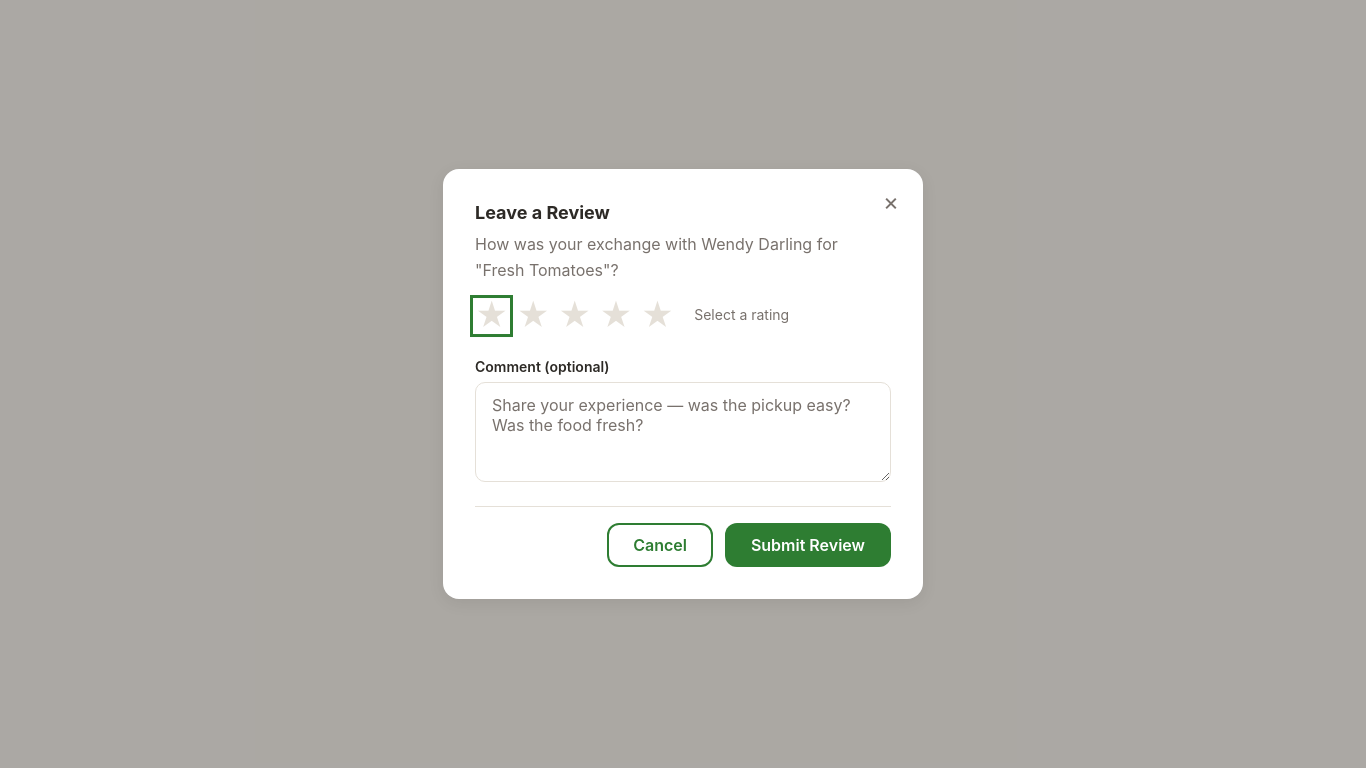
it: ReviewModal › must update the rating label when a star is clicked
Click the button named "3 stars". click: [575, 316]
box: top-left (558, 300), bottom-right (591, 332)
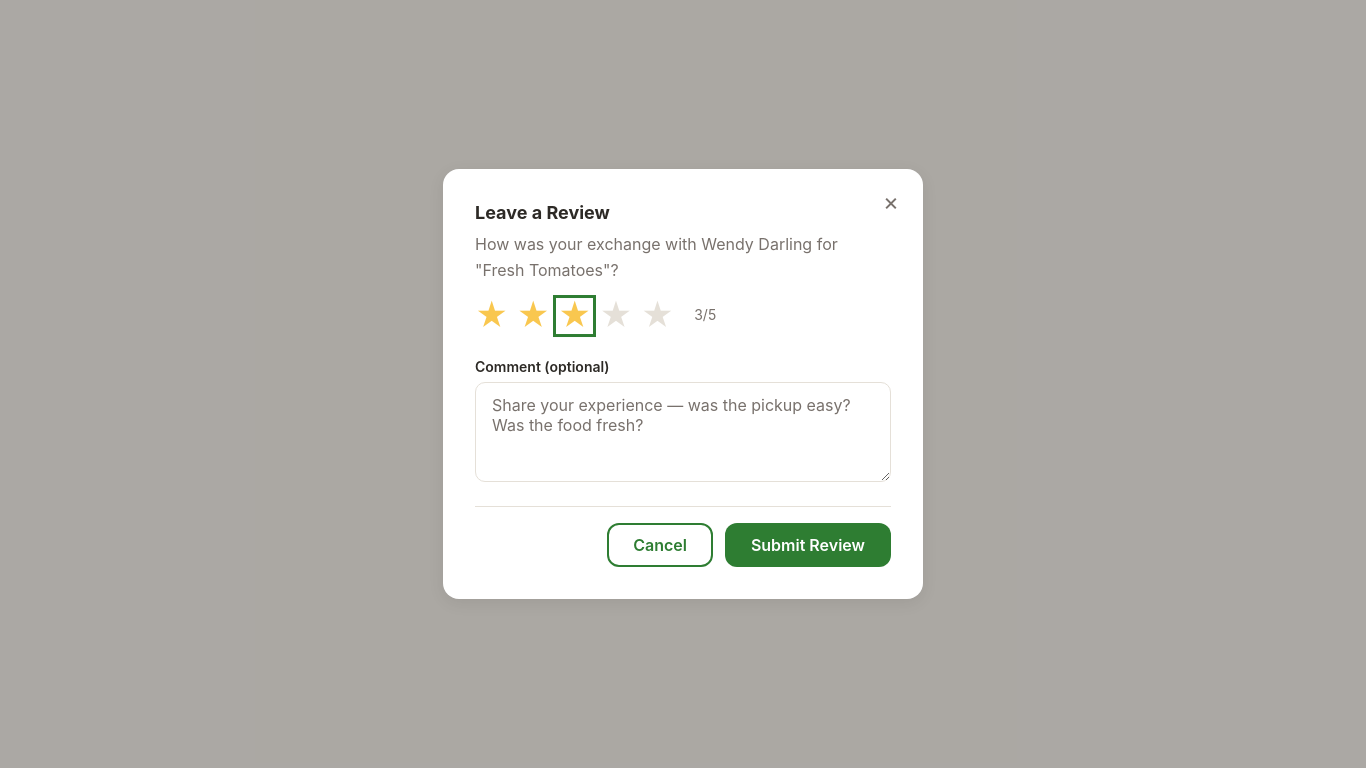
Expected: the text "3/5" is shown, top-left (694, 304), bottom-right (716, 327)
